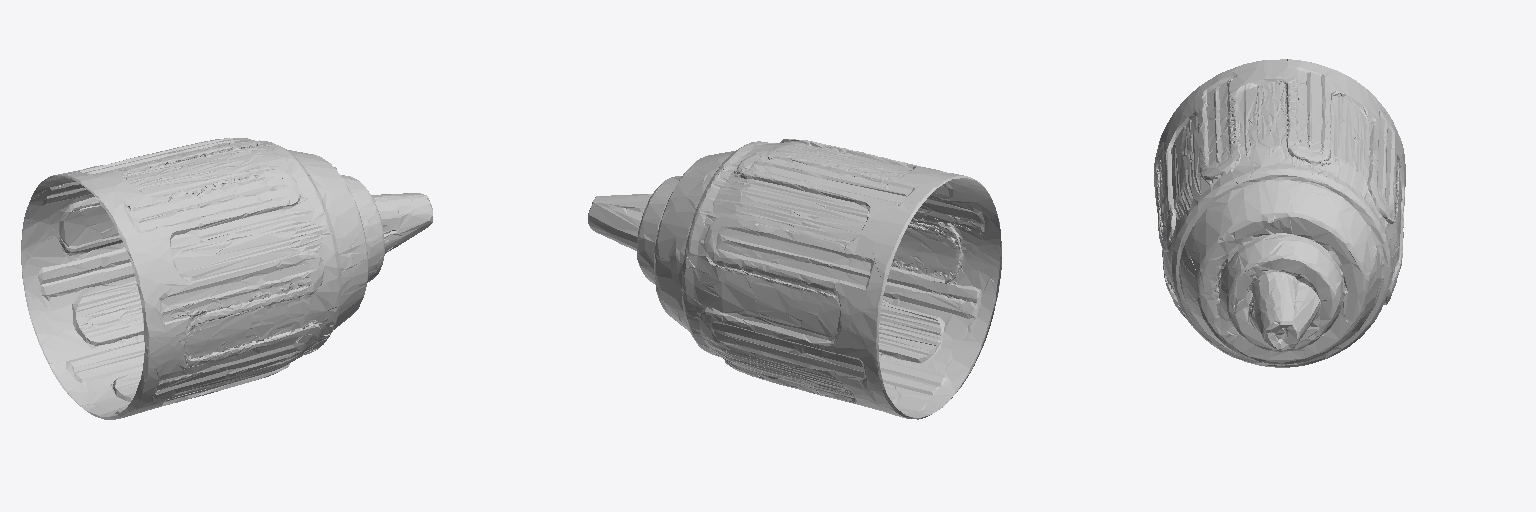
The model's file is chuck.obj.
3 views of the same model, side by side, from view 1: azimuth 30°, elevation 25°; view 2: azimuth 150°, elevation 25°; view 3: azimuth 270°, elevation 25° (orthographic).
Parts seen in each view (by area): view 1: chuck; view 2: chuck; view 3: chuck.
Boxes of the visible parts, x1=… form: chuck: x1=21, y1=138, x2=432, y2=419; chuck: x1=588, y1=139, x2=1001, y2=419; chuck: x1=1154, y1=59, x2=1405, y2=367.
Bounding box in the file's own units: 0.0678 × 0.0426 × 0.0429.